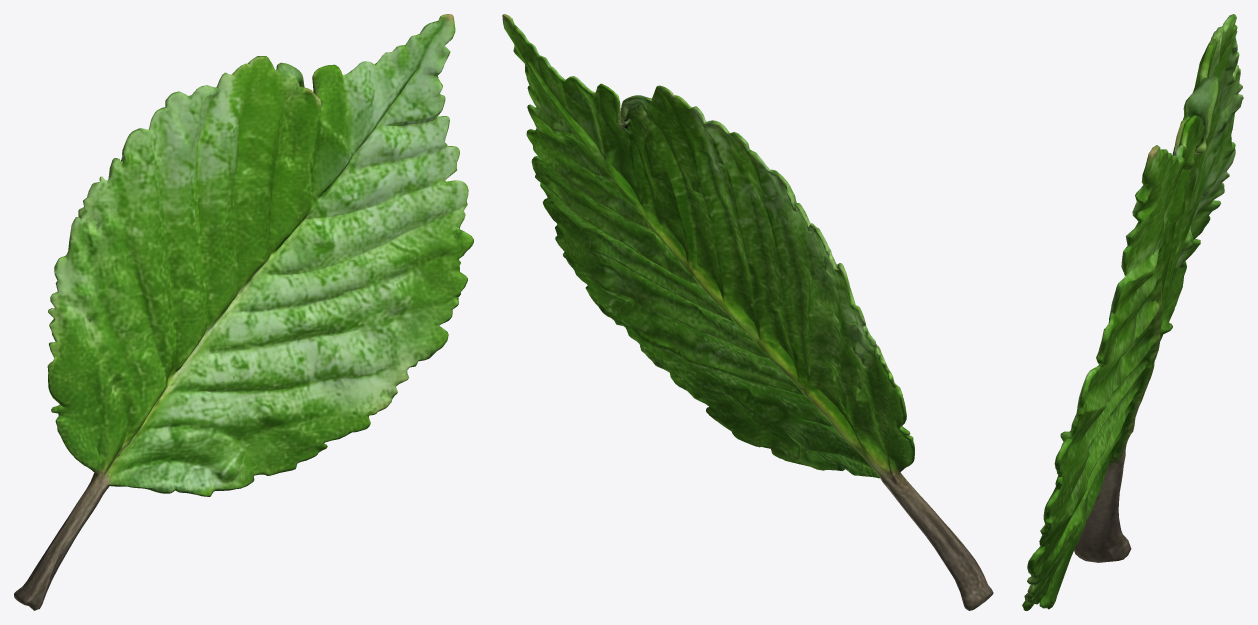
Rendered from broadleaf-v18.glb.
The picture shows the model from 3 angles, left to right: view 1: azimuth 30°, elevation 25°; view 2: azimuth 150°, elevation 25°; view 3: azimuth 270°, elevation 25°; orthographic projection. The views are drawn at different scales.
Visible parts, largest first — view 1: geometry_0; view 2: geometry_0; view 3: geometry_0.
Boxes of the visible parts, box(x1,y1,x2,y2) form: geometry_0: box(14, 14, 473, 610); geometry_0: box(502, 14, 993, 610); geometry_0: box(1022, 14, 1243, 610).
Bounding box in the file's own units: 0.1199 × 0.1201 × 0.0325.
Materials: 1 (1 with a texture image).
